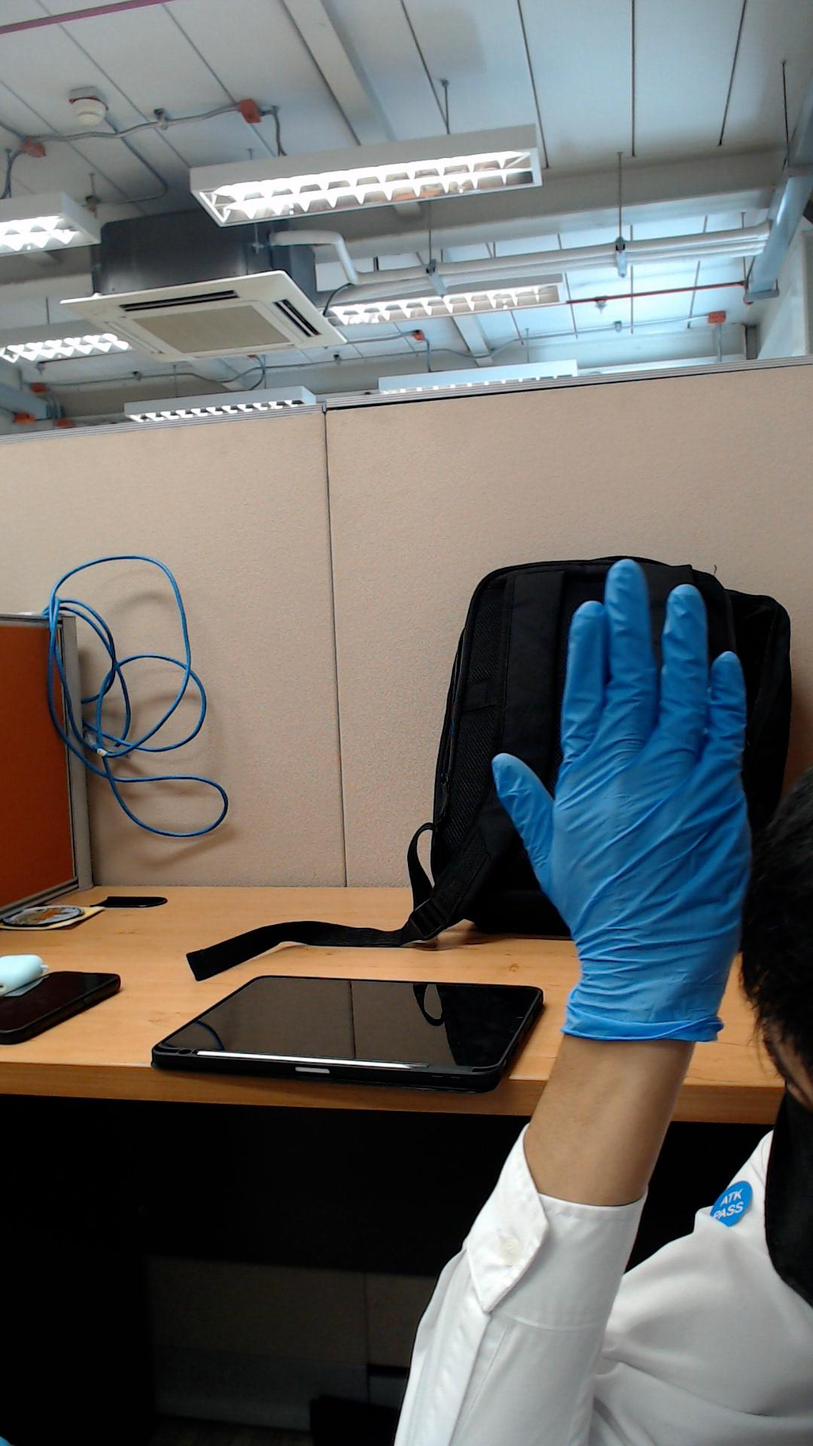gloves: (483, 540, 793, 941)
